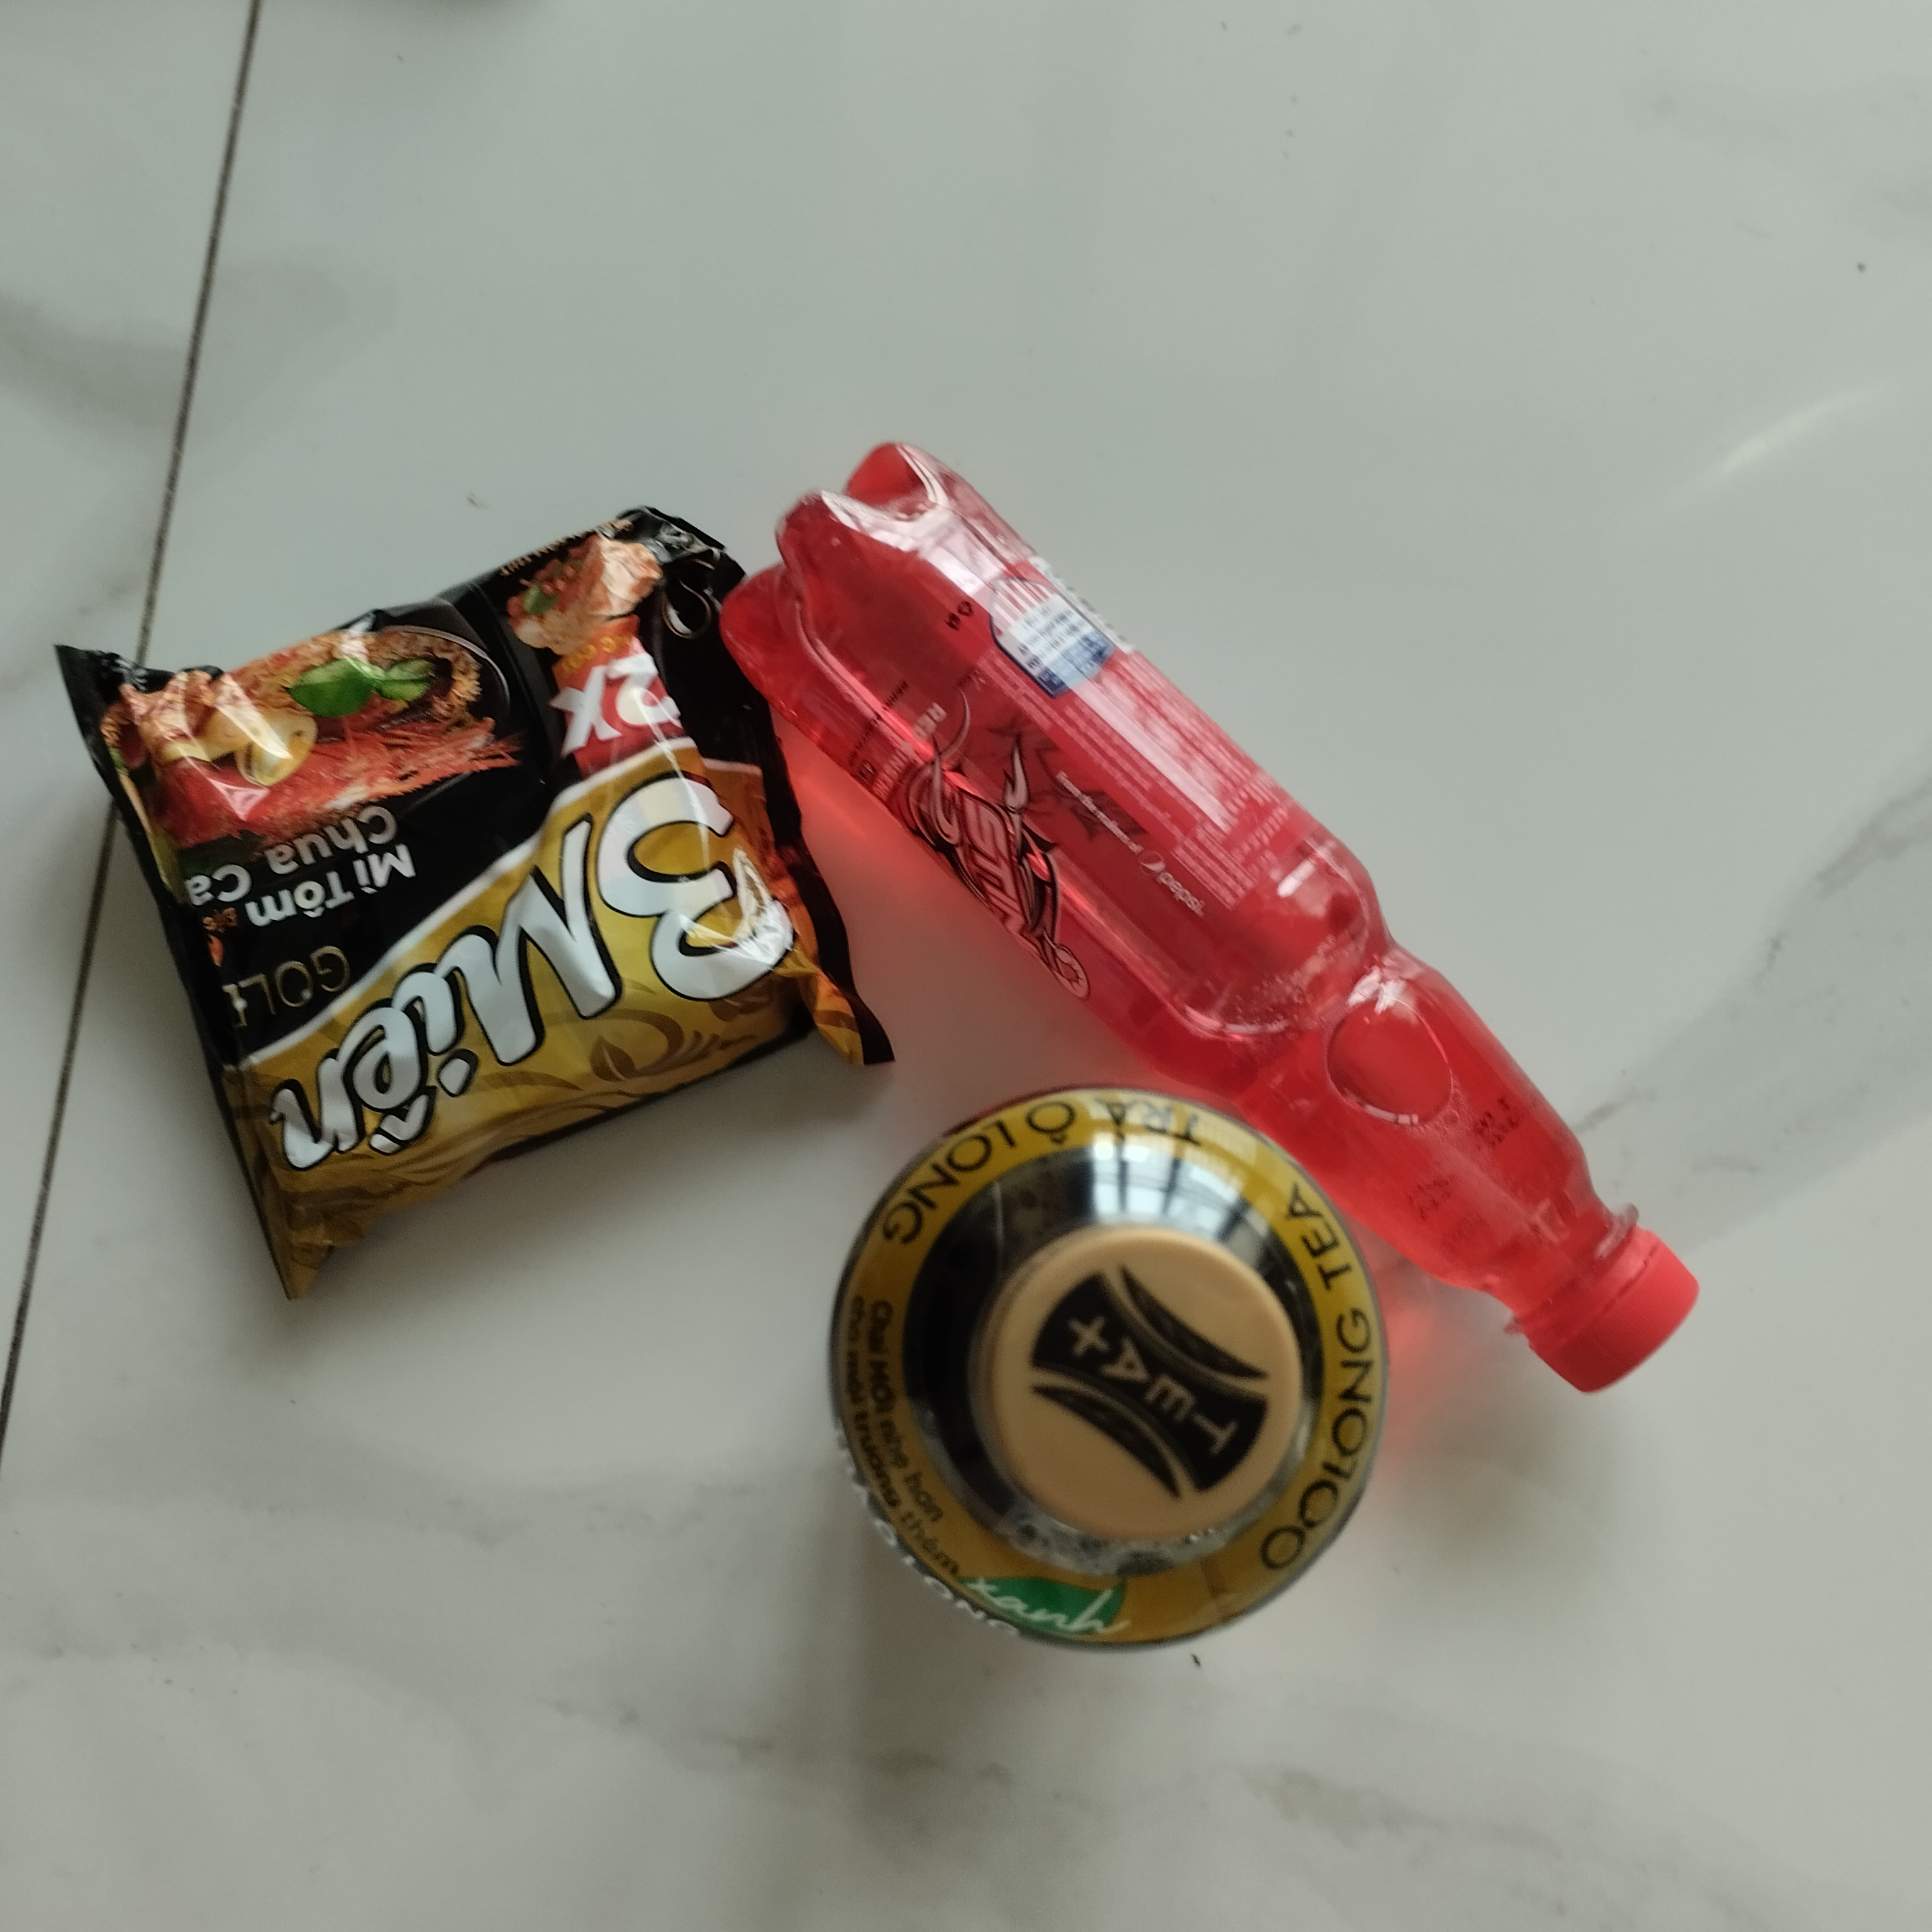3mien: (44, 508, 911, 1316)
Olong: (803, 1079, 1403, 1679)
Sting: (702, 444, 1698, 1394)
